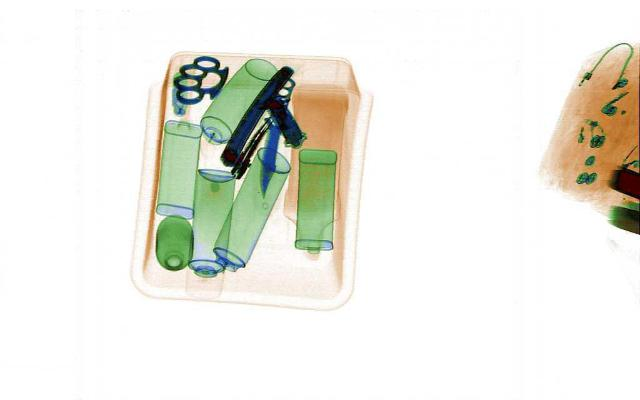Knife: (164, 52, 233, 108), (249, 88, 313, 148), (252, 108, 284, 196)
